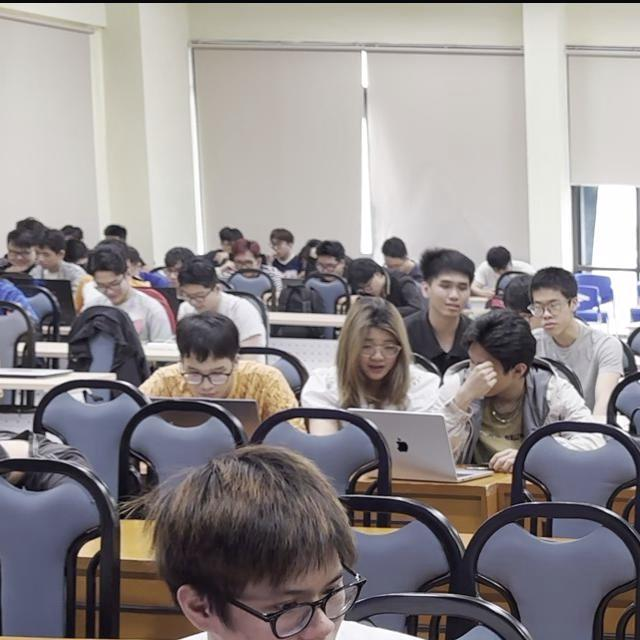Looking away: (222, 566, 350, 640), (354, 322, 403, 383), (184, 351, 237, 404), (429, 273, 473, 320), (530, 288, 571, 338)
